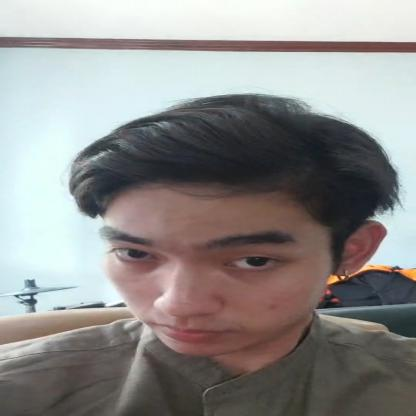Palm: (46, 94, 416, 369)
